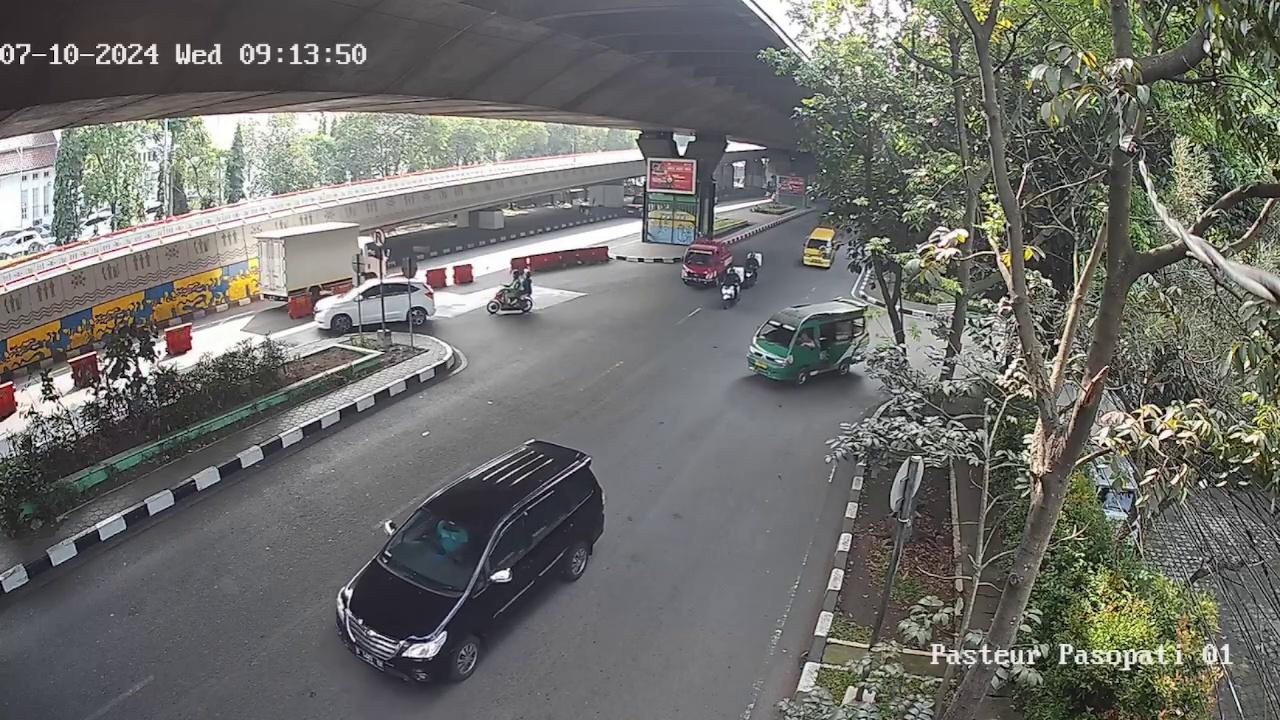tidak-pakai: (435, 521, 468, 566)
windshield: (387, 506, 491, 589), (757, 317, 797, 347)
